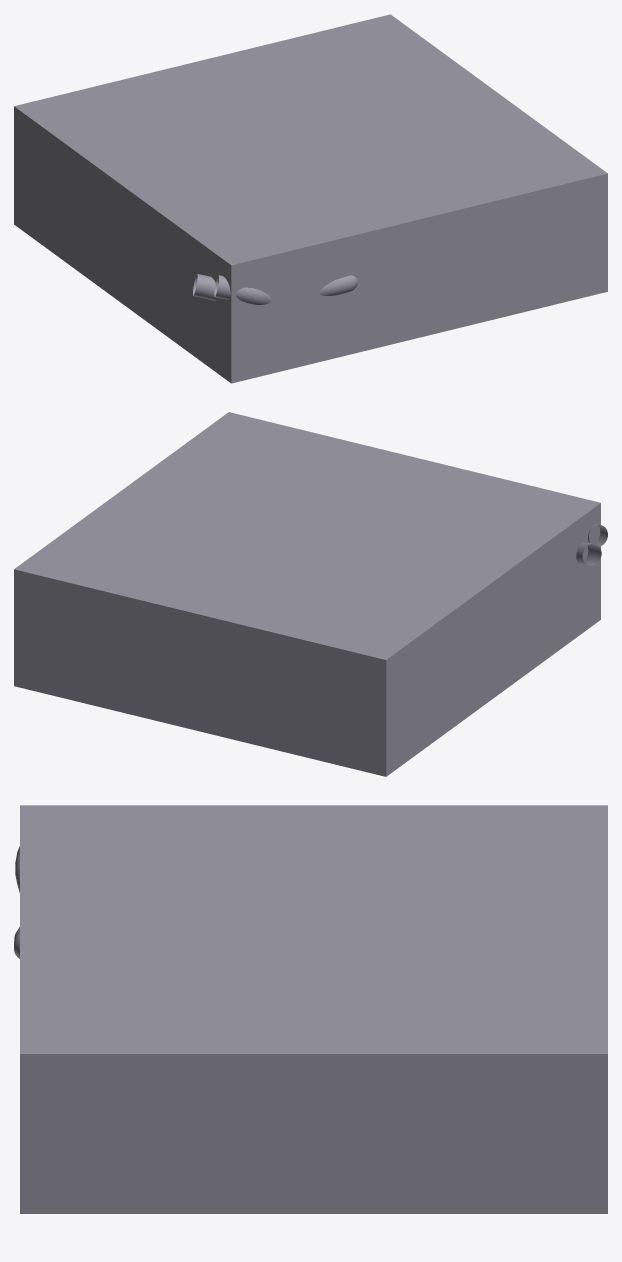
File: models.glb
3 renders of one model, top to bottom at view 1: azimuth 30°, elevation 25°; view 2: azimuth 150°, elevation 25°; view 3: azimuth 270°, elevation 25°, orthographic. The views are drawn at different scales.
Visible parts, largest first — view 1: ground; view 2: ground; view 3: ground.
Part boxes in pixels (left/top/right/bottom): ground: left=14, top=14, right=607, bottom=383; ground: left=14, top=412, right=607, bottom=776; ground: left=14, top=805, right=607, bottom=1213.
Size of the model in its own units: 525 by 252 by 505.
5 materials, 5 textured.
